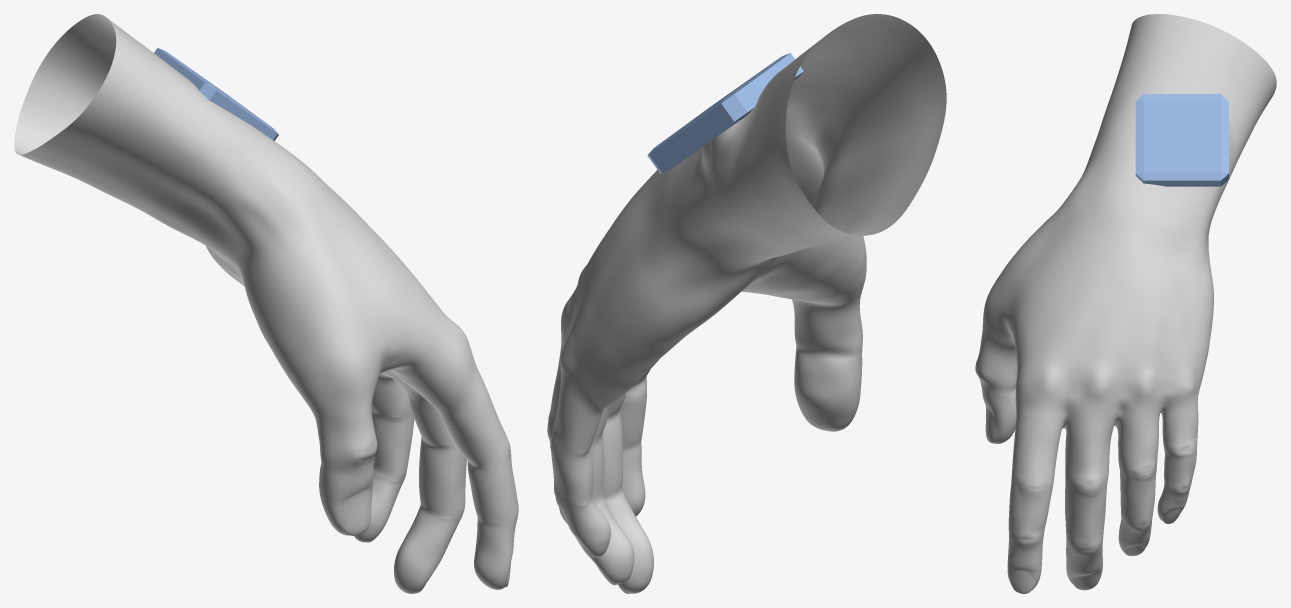
Rendered from swelling.glb.
3 views of the same model, side by side, from view 1: azimuth 30°, elevation 25°; view 2: azimuth 150°, elevation 25°; view 3: azimuth 270°, elevation 25° (orthographic). The views are drawn at different scales.
Parts seen in each view (by area): view 1: Hands_Low:Group52896, Cube; view 2: Hands_Low:Group52896, Cube; view 3: Hands_Low:Group52896, Cube.
Part boxes in pixels (left/top/right/bottom): Hands_Low:Group52896: left=14, top=14, right=518, bottom=593; Cube: left=154, top=48, right=278, bottom=140; Hands_Low:Group52896: left=547, top=14, right=946, bottom=593; Cube: left=647, top=53, right=803, bottom=173; Hands_Low:Group52896: left=975, top=14, right=1276, bottom=593; Cube: left=1135, top=94, right=1228, bottom=186.
Size of the model in its own units: 1.36 by 2 by 1.14.
